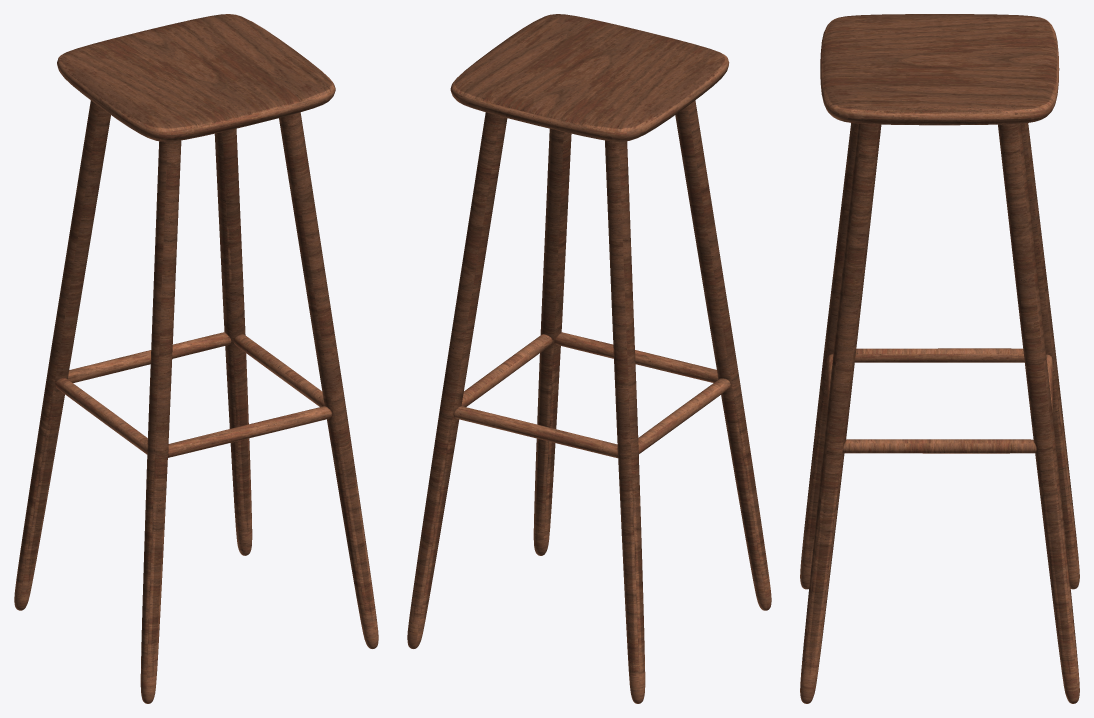
The model's file is barrel-stool.glb.
3 renders of one model, left to right at view 1: azimuth 30°, elevation 25°; view 2: azimuth 150°, elevation 25°; view 3: azimuth 270°, elevation 25°, orthographic. The views are drawn at different scales.
Parts seen in each view (by area): view 1: Mo_Bar StoolMo_19_0; view 2: Mo_Bar StoolMo_19_0; view 3: Mo_Bar StoolMo_19_0.
Boxes of the visible parts, left/top/right/bottom form: Mo_Bar StoolMo_19_0: left=14, top=14, right=378, bottom=703; Mo_Bar StoolMo_19_0: left=407, top=14, right=771, bottom=703; Mo_Bar StoolMo_19_0: left=800, top=14, right=1079, bottom=703.
Size of the model in its own units: 36.62 by 83.2 by 36.02.
1 material, 1 textured.
